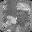people: (6, 15, 17, 26)
